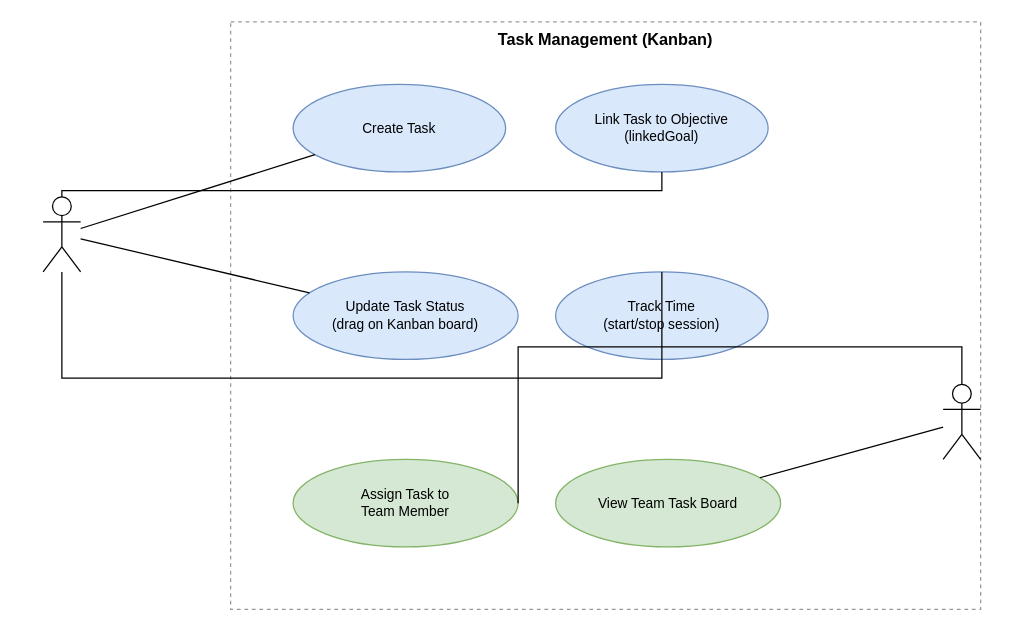
The diagram is 1028 pixels wide and 631 high, and some of its shapes have lost their labels. Each missing label, with the box of its shape:
Collaborator: (42, 196, 81, 272)
Team Leader: (942, 383, 981, 459)
